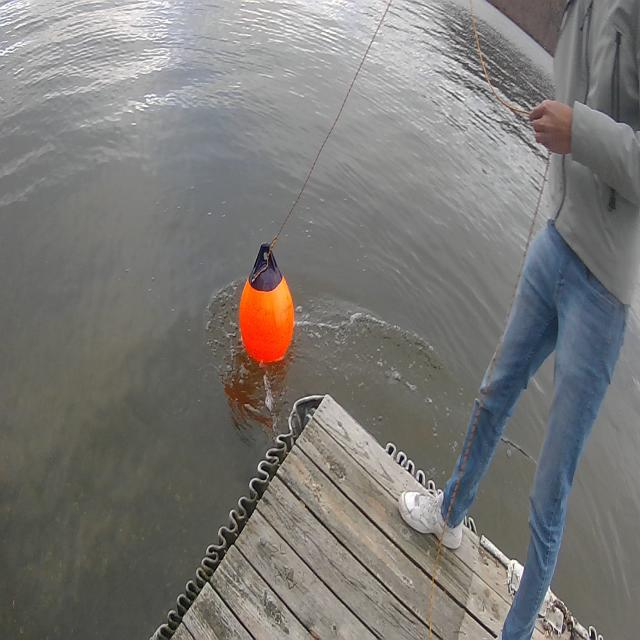Buoy: (238, 275, 295, 366)
